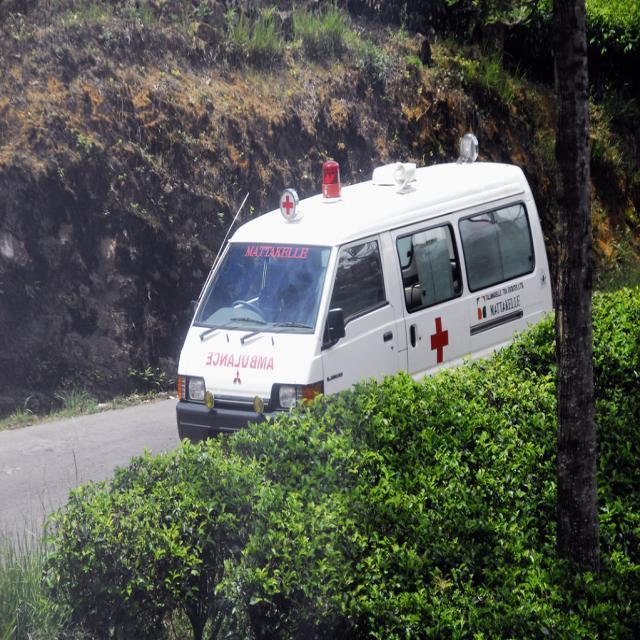emergency-vehicle: (168, 126, 558, 444)
